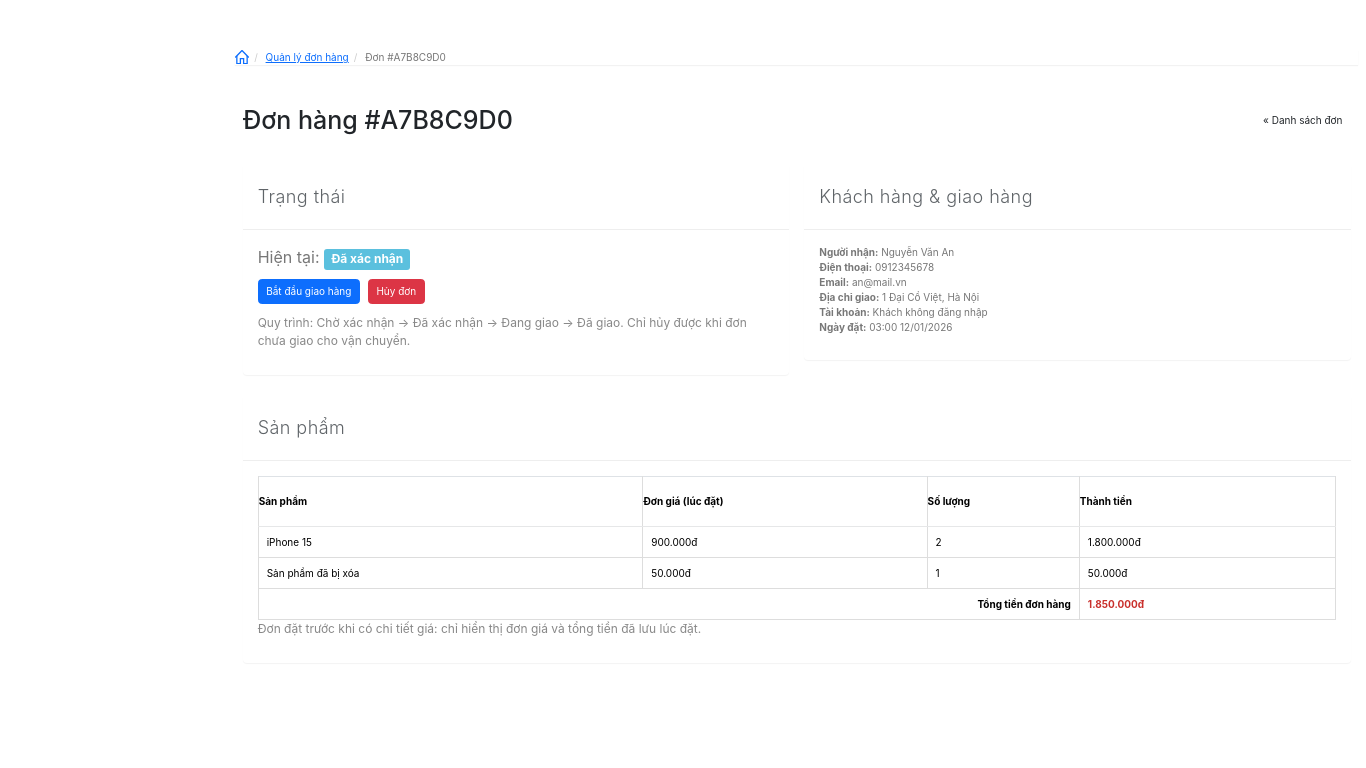
Test case: đổi trạng thái bị backend từ chối (409): hiện lỗi và tải lại trạng thái mới nhất
Step 1. Click the button "Hủy đơn" → (396, 291), box [368,279,425,304]
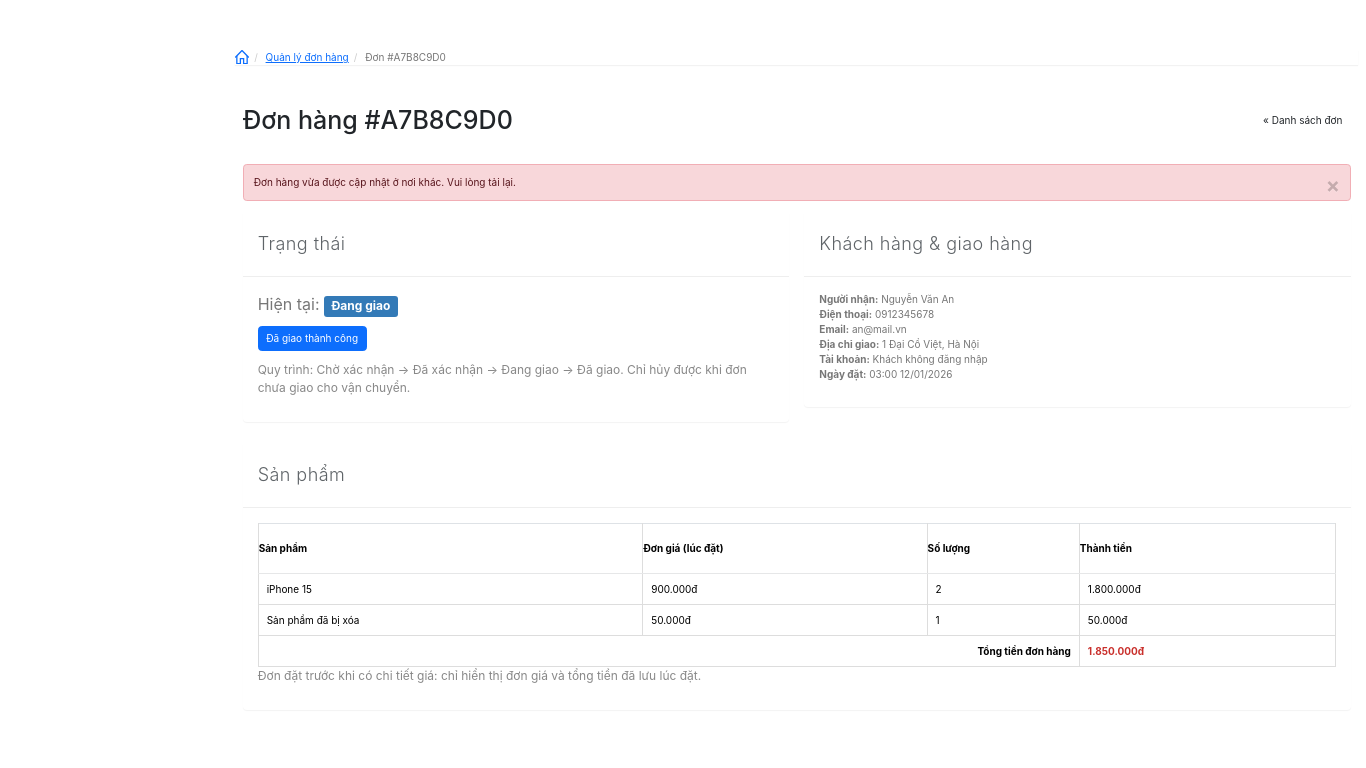
Result: the message shows "vừa được cập nhật ở nơi khác" at [254,176,516,188]
Result: the button "Đã giao thành công" is shown at [258,326,367,350]
Result: the button "Hủy đơn" is gone
